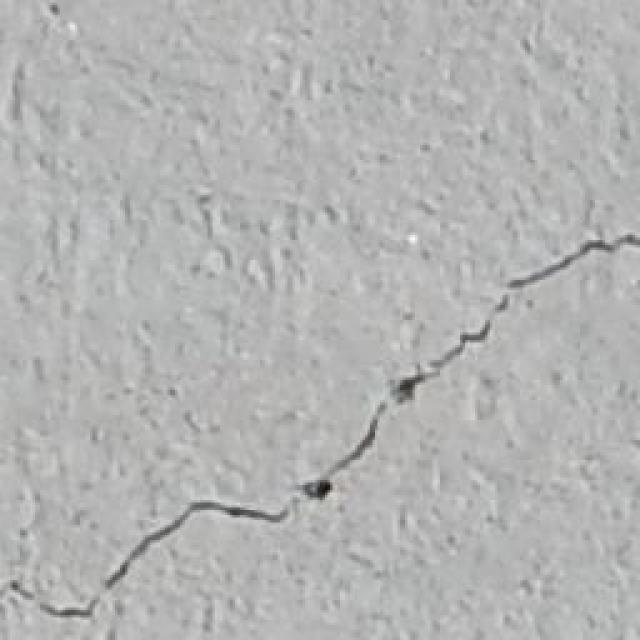concrete-crack: (0, 228, 640, 623)
